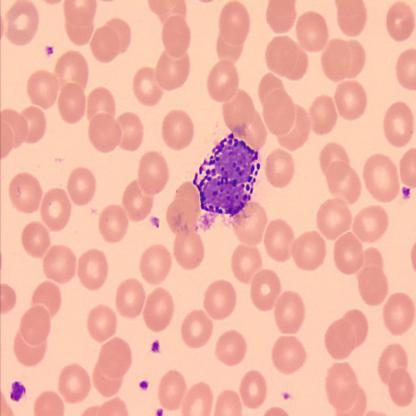Basophil: (191, 130, 263, 220)
